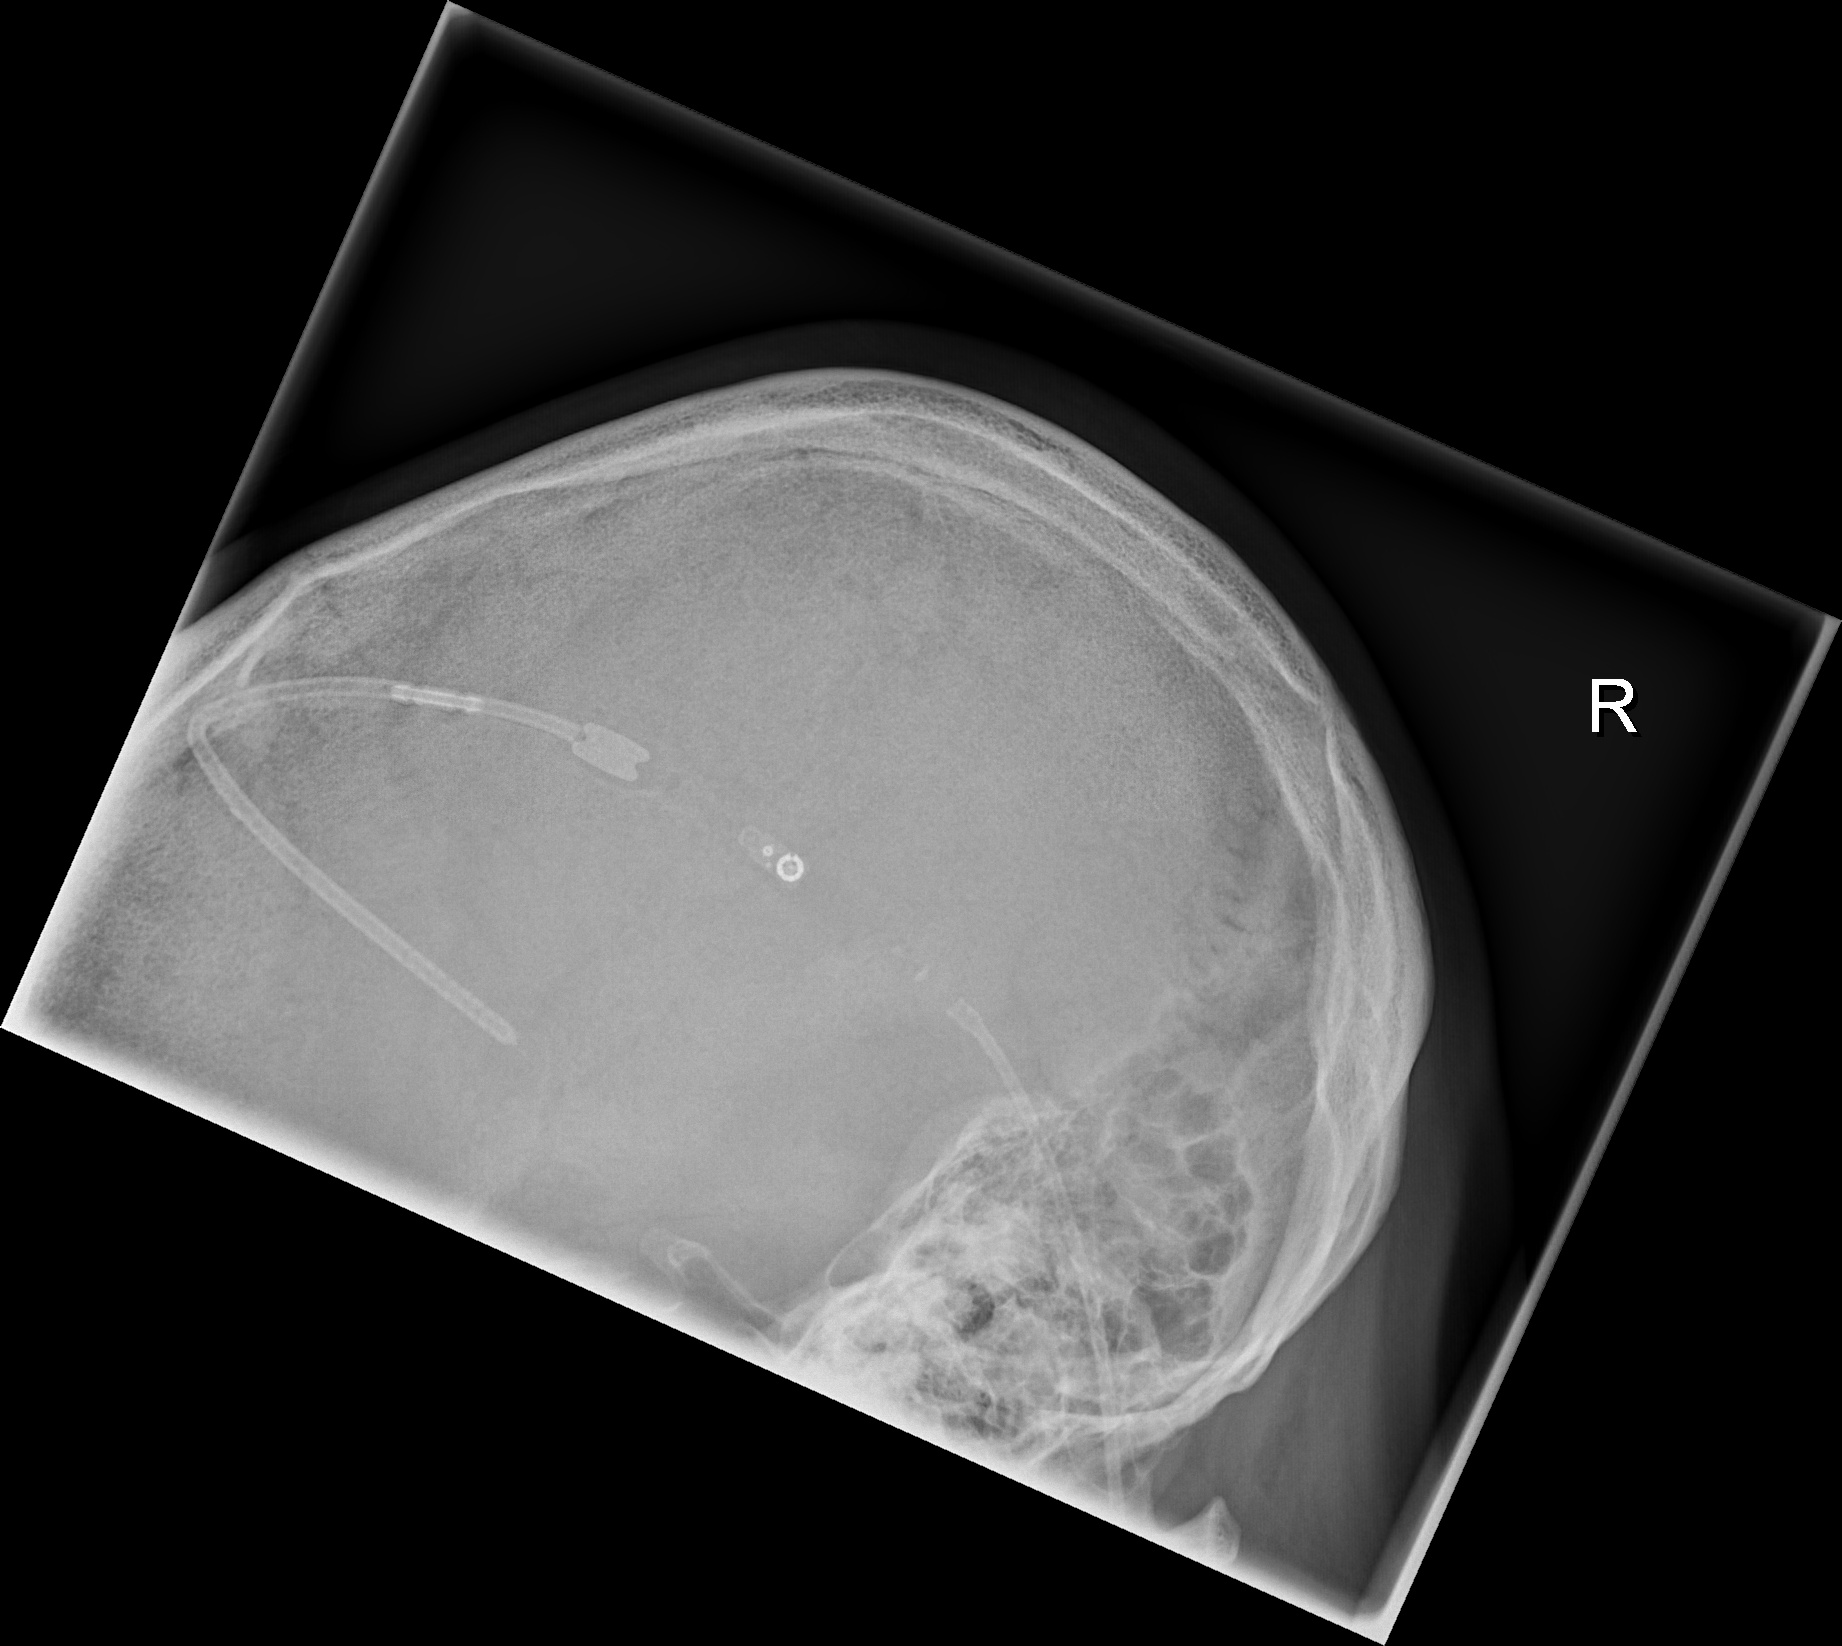Codman Hakim: (741, 829, 818, 899)
